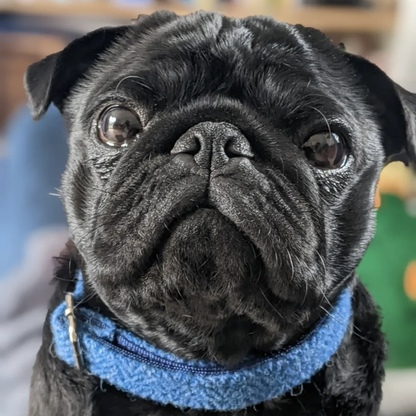Pug: (14, 7, 416, 416)
